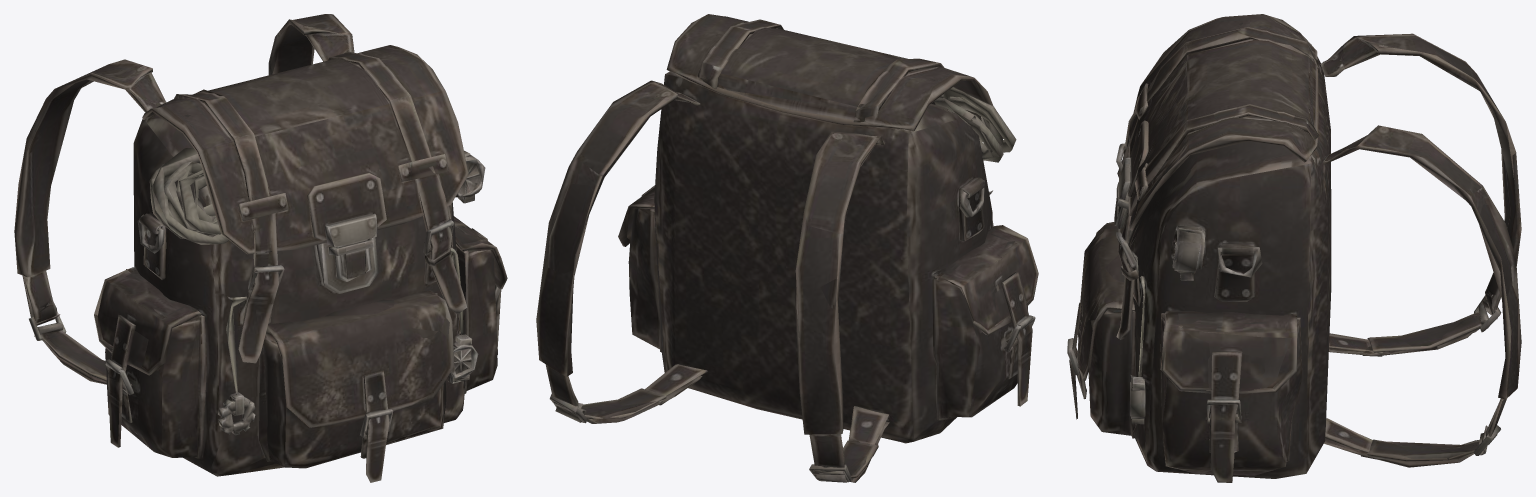
File: pack.glb
3 renders of one model, left to right at view 1: azimuth 30°, elevation 25°; view 2: azimuth 150°, elevation 25°; view 3: azimuth 270°, elevation 25°, orthographic. The views are drawn at different scales.
Visible parts, largest first — view 1: pack; view 2: pack; view 3: pack.
Part boxes in pixels (x1=…): pack: x1=14, y1=14, x2=507, y2=482; pack: x1=536, y1=14, x2=1038, y2=482; pack: x1=1067, y1=14, x2=1521, y2=482.
Bounding box in the file's own units: 0.5766 × 0.5 × 0.5784.
1 material, 1 textured.
